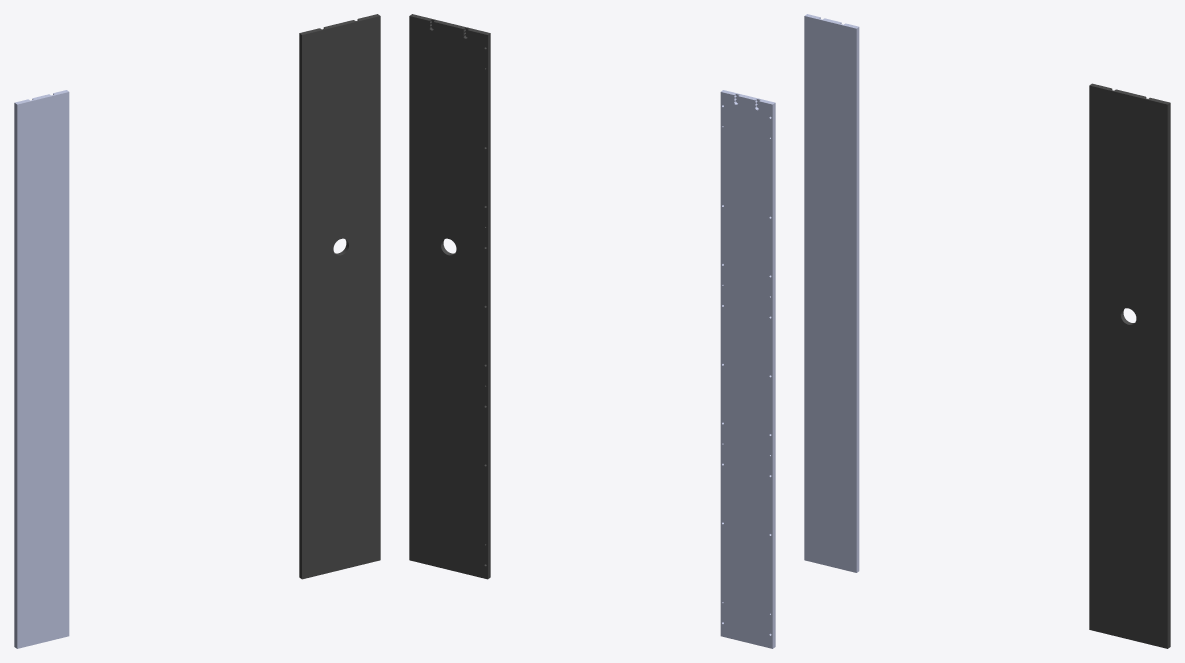
The model's file is portal-d-1-7d9rv.glb.
3 renders of one model, left to right at view 1: azimuth 30°, elevation 25°; view 2: azimuth 150°, elevation 25°; view 3: azimuth 330°, elevation 25°, orthographic.
Parts seen in each view (by area): view 1: portal, portal_L, portal_D, portal_D_k; view 2: portal, portal_L, portal_D, portal_D_k; view 3: portal, portal_D, portal_L, portal_D_k.
Boxes of the visible parts, left/top/right/bottom form: portal: left=299, top=14, right=380, bottom=579; portal_L: left=14, top=96, right=43, bottom=648; portal_D: left=41, top=90, right=69, bottom=642; portal_D_k: left=43, top=92, right=60, bottom=642; portal: left=409, top=14, right=490, bottom=579; portal_L: left=746, top=96, right=775, bottom=648; portal_D: left=720, top=90, right=748, bottom=642; portal_D_k: left=729, top=92, right=746, bottom=641; portal: left=1089, top=83, right=1170, bottom=648; portal_D: left=830, top=20, right=859, bottom=572; portal_L: left=804, top=14, right=832, bottom=566; portal_D_k: left=830, top=23, right=849, bottom=570.
Size of the model in its own units: 1390 by 1990 by 18.
